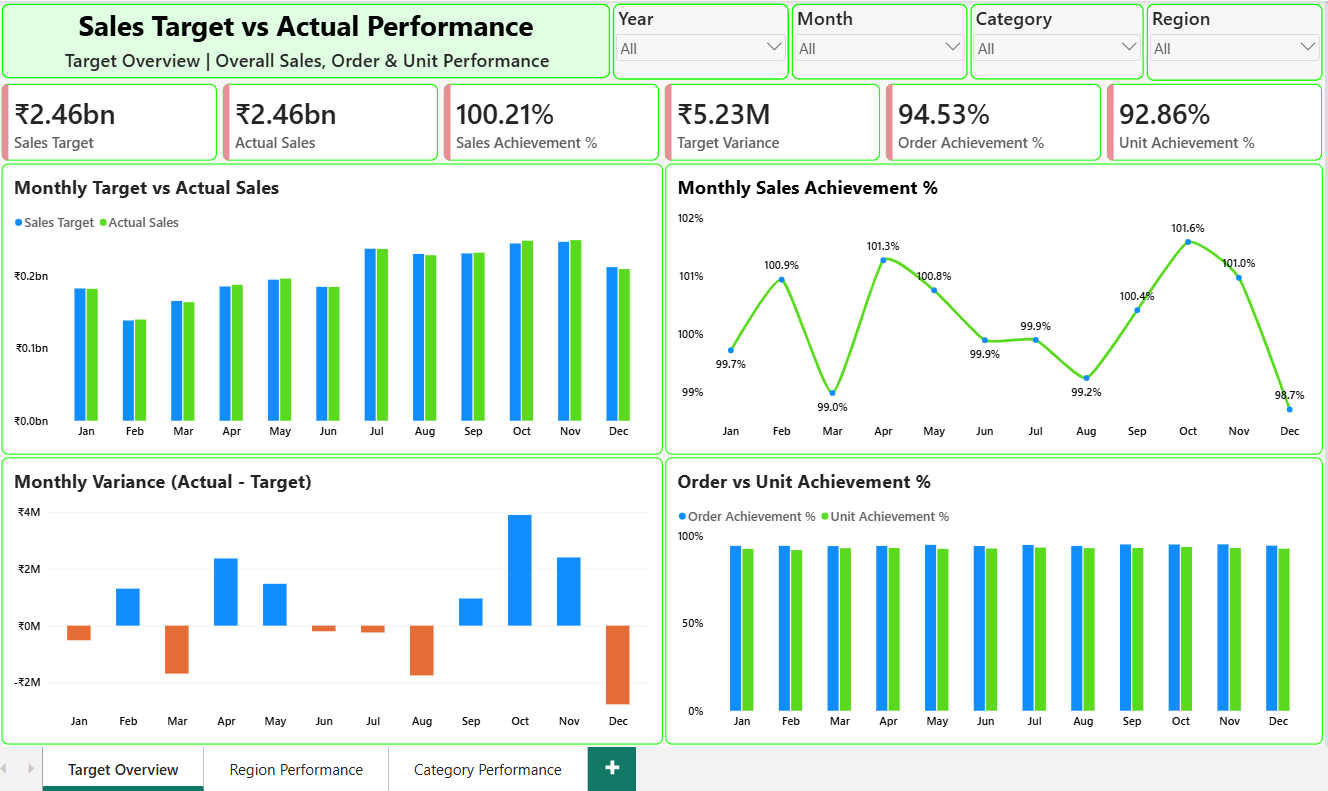

The page's visual inventory and layout, read from the dashboard file:
{"tool":"powerbi","page":{"name":"Target Overview","canvas":[1920,1080],"ordinal":0},"visuals":[{"type":"cardVisual","fields":{"Data":["Measure.Sales Target","Measure.Actual Sales","Measure.Sales Achievement %","Measure.Sales Variance","Measure.Order Achievement %","Measure.Unit Achievement %"]},"box":[3.6,119.4,1912.8,112.2],"z":0},{"type":"shape","box":[3.6,3.6,881.3,108.6],"z":1000},{"type":"shape","box":[888.5,3.6,255.2,110.4],"z":2000},{"type":"textbox","box":[27.1,67,837.9,45.2],"z":3000},{"type":"shape","box":[1147.3,3.6,255.2,110.4],"z":4000},{"type":"shape","box":[1661.3,3.6,255.2,112.2],"z":5000},{"type":"shape","box":[1406.1,3.6,251.5,110.4],"z":6000},{"type":"slicer","fields":{"Values":["DimDate.Year"]},"box":[888.5,5.4,255.2,106.8],"z":7000},{"type":"slicer","fields":{"Values":["DimDate.Month Name"]},"box":[1147.3,5.4,255.2,106.8],"z":8000},{"type":"slicer","fields":{"Values":["categories.category_name"]},"box":[1406.1,5.4,251.5,106.8],"z":9000},{"type":"slicer","fields":{"Values":["DimRegion.region"]},"box":[1661.3,5.4,255.2,106.8],"z":10000},{"type":"clusteredColumnChart","title":"Monthly Target vs Actual Sales","fields":{"Category":["DimDate.Month"],"Y":["Measure.Sales Target","Measure.Actual Sales"]},"box":[3.6,235.3,957.3,421.7],"z":11000},{"type":"clusteredColumnChart","title":"Order vs Unit Achievement %","fields":{"Category":["DimDate.Month"],"Y":["Measure.Order Achievement %","Measure.Unit Achievement %"]},"box":[964.5,660.5,951.9,416.2],"z":12000},{"type":"columnChart","title":"Monthly Variance (Actual - Target)","fields":{"Y":["Measure.Sales Variance"],"Category":["DimDate.Month"]},"box":[3.6,660.5,957.3,416.2],"z":13000},{"type":"lineChart","title":"Monthly Sales Achievement %","fields":{"Category":["DimDate.Month"],"Y":["Measure.Sales Achievement %"]},"box":[964.5,235.3,951.9,421.7],"z":14000}]}

Visuals, with their boxes on the page's 1920x1080 design canvas (x1, y1, x2, y2). These are canvas units, not pixel positions in the 1328x791 screenshot, which may show the page scaled, cropped or inside an application window:
cardVisual - Measure.Sales Target x Measure.Actual Sales: (4,119,1916,232)
shape: (4,4,885,112)
shape: (888,4,1144,114)
textbox: (27,67,865,112)
shape: (1147,4,1402,114)
shape: (1661,4,1916,116)
shape: (1406,4,1658,114)
slicer - DimDate.Year: (888,5,1144,112)
slicer - DimDate.Month Name: (1147,5,1402,112)
slicer - categories.category_name: (1406,5,1658,112)
slicer - DimRegion.region: (1661,5,1916,112)
"Monthly Target vs Actual Sales" clusteredColumnChart: (4,235,961,657)
"Order vs Unit Achievement %" clusteredColumnChart: (964,660,1916,1077)
"Monthly Variance (Actual - Target)" columnChart: (4,660,961,1077)
"Monthly Sales Achievement %" lineChart: (964,235,1916,657)
